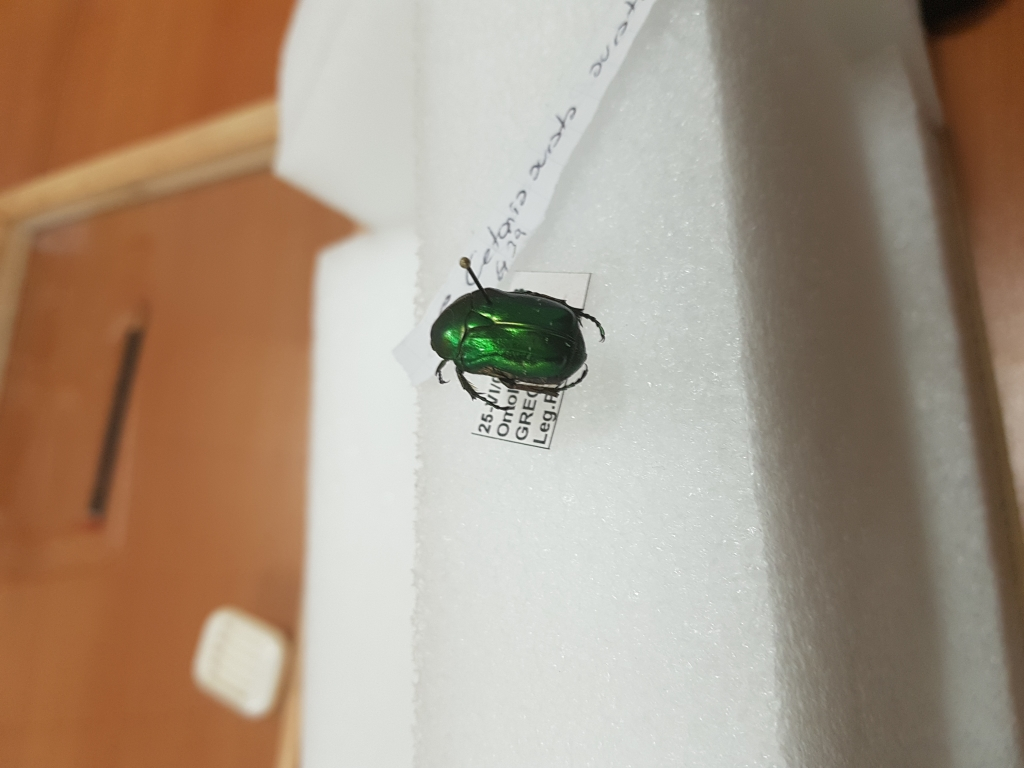Cetonia_aurata: (426, 283, 607, 414)
